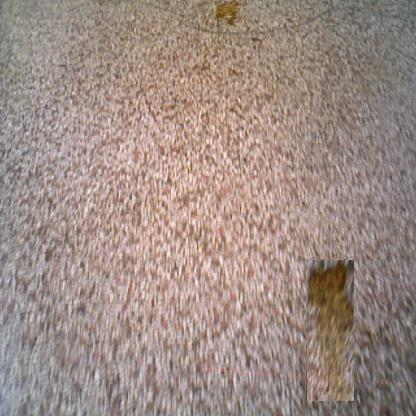liquid: (306, 259, 354, 401), (215, 0, 240, 24)
